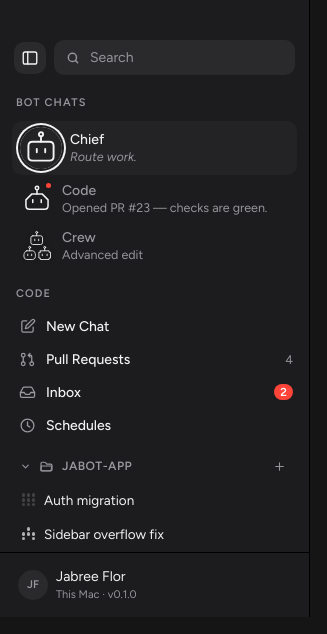
Test: Sidebar › collapses a folder without losing its thread count
This screenshot has width=327, height=634.
Click the button "jabot-app": [140, 467] box [20,458,261,476]
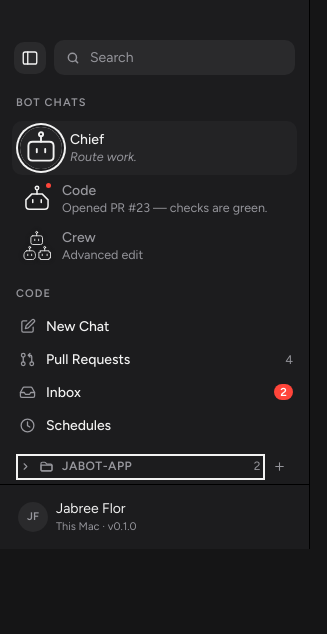
Expected: the button "Auth migration" is gone
Expected: the button "jabot-app 2" is shown, [20,458,261,476]
